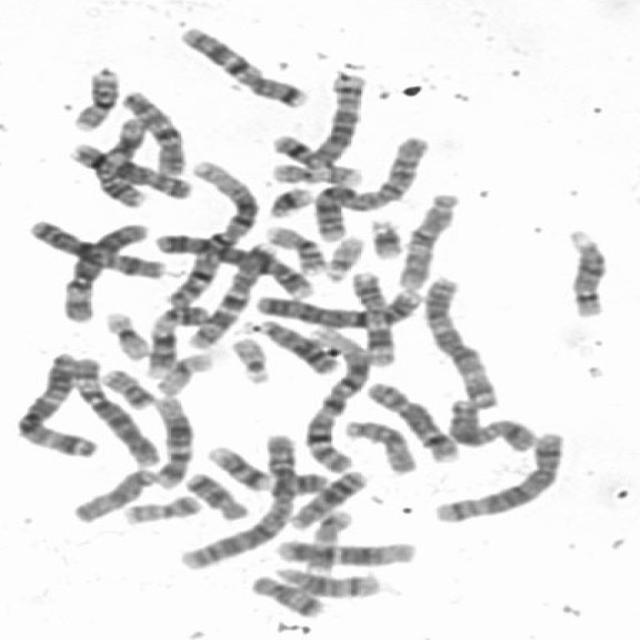A1: (158, 156, 258, 308), (299, 322, 374, 474)
A2: (176, 428, 303, 571), (307, 131, 433, 243)
A3: (419, 271, 504, 409), (8, 350, 102, 459)
B4: (148, 228, 318, 299), (246, 282, 428, 328)
B5: (427, 426, 567, 524), (298, 68, 368, 170)
C10: (393, 188, 464, 290), (114, 86, 189, 178)
C11: (344, 264, 400, 368), (92, 112, 152, 209)
C12: (269, 533, 420, 568), (147, 390, 197, 489)
C6: (64, 352, 163, 467), (57, 216, 153, 324)
C7: (173, 21, 313, 109), (183, 236, 281, 350)
C8: (360, 375, 464, 464), (64, 137, 197, 200)
C9: (200, 439, 331, 496), (141, 298, 213, 379)
D13: (242, 314, 342, 376), (283, 464, 368, 530)
D14: (558, 224, 612, 319), (267, 562, 384, 599)
D15: (66, 463, 160, 525), (339, 414, 420, 476)
E16: (66, 62, 123, 132), (262, 220, 332, 276)
E17: (300, 506, 353, 575), (264, 158, 366, 186)
E18: (178, 467, 253, 521), (244, 570, 327, 618)
F19: (150, 346, 217, 397), (99, 306, 154, 361)
F20: (117, 489, 206, 526), (96, 363, 156, 410)
G21: (363, 212, 407, 260), (261, 181, 316, 219)
G22: (224, 332, 274, 386), (319, 229, 367, 283)
X: (22, 213, 168, 280), (443, 394, 540, 453)
